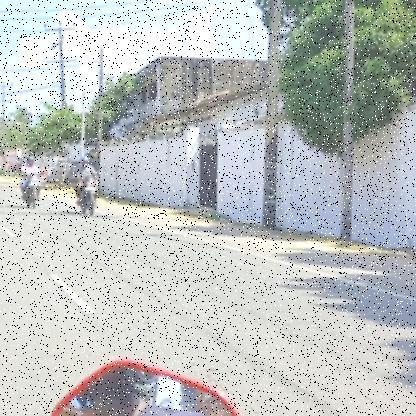motorcycle: (74, 174, 100, 217), (18, 172, 44, 209)
